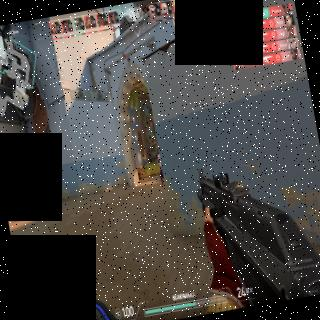ENEMY-BODY: (156, 154, 165, 186)
ENEMY-HEAD: (158, 154, 160, 158)
